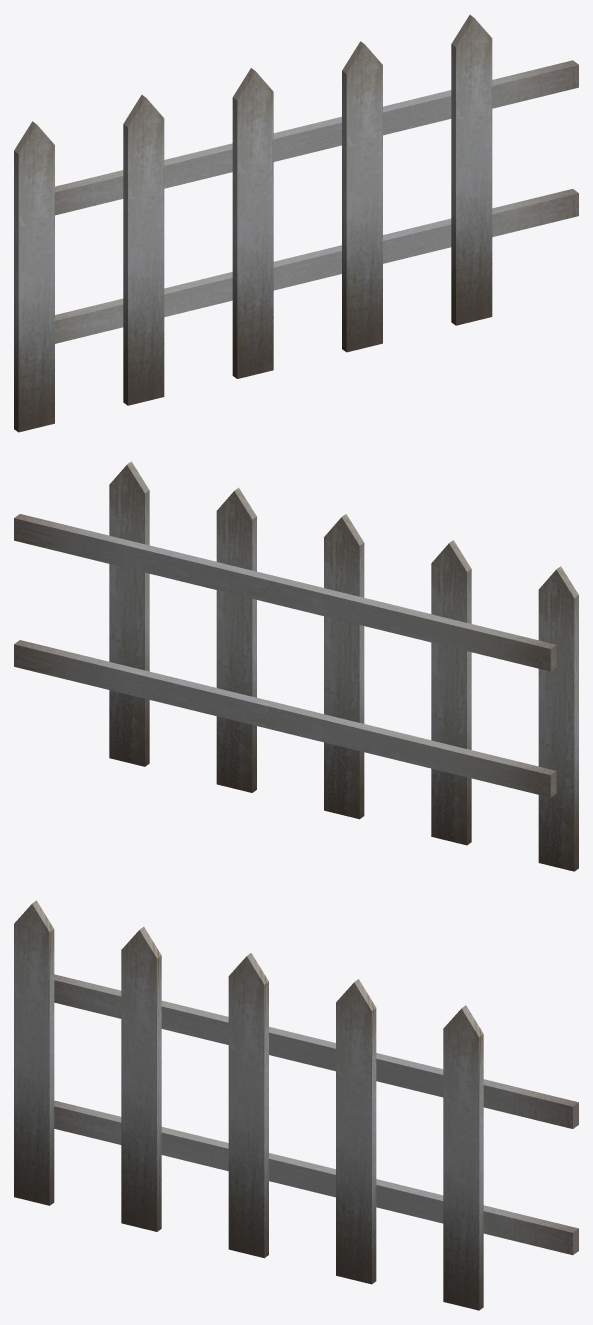
The model's file is Fence_3.fbx.
3 views of the same model, one above another, from view 1: azimuth 30°, elevation 25°; view 2: azimuth 150°, elevation 25°; view 3: azimuth 330°, elevation 25° (orthographic).
Parts seen in each view (by area): view 1: Fence_3; view 2: Fence_3; view 3: Fence_3.
Part boxes in pixels (x1,y1,x2,y2): Fence_3: (14,14,578,432); Fence_3: (14,461,578,871); Fence_3: (14,900,578,1310).
Size of the model in its own units: 155 by 79.56 by 5.03.
